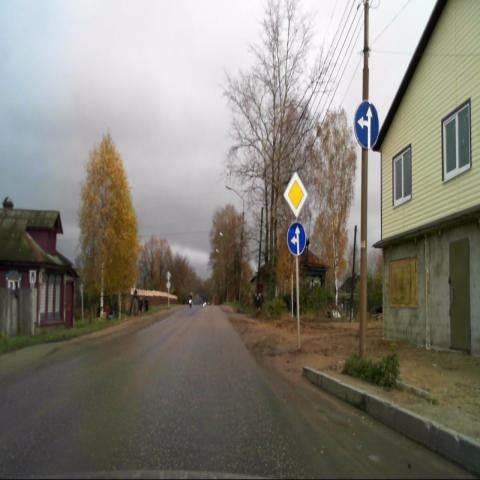4_1_5: (353, 99, 380, 151), (287, 221, 306, 256)
